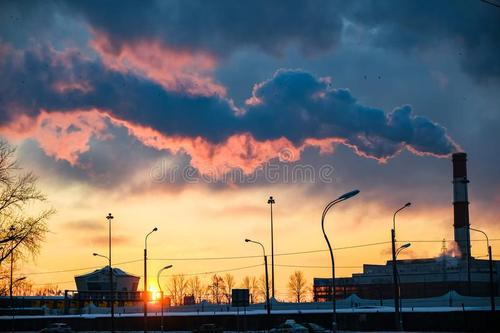smoke: (22, 65, 458, 179)
